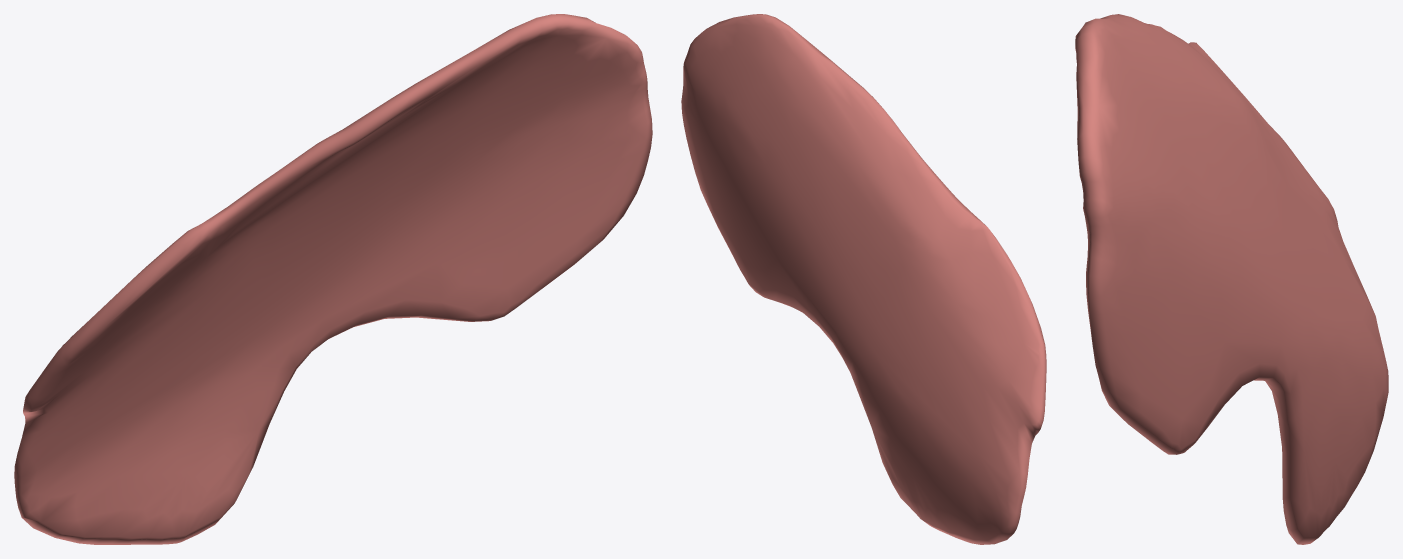
The picture shows the model from 3 angles, left to right: view 1: azimuth 30°, elevation 25°; view 2: azimuth 150°, elevation 25°; view 3: azimuth 270°, elevation 25°; orthographic projection. The views are drawn at different scales.
Parts seen in each view (by area): view 1: ZA_791feab23b260d7c; view 2: ZA_791feab23b260d7c; view 3: ZA_791feab23b260d7c.
Boxes of the visible parts, bbox=[...] form: ZA_791feab23b260d7c: bbox=[14, 14, 652, 544]; ZA_791feab23b260d7c: bbox=[681, 14, 1046, 544]; ZA_791feab23b260d7c: bbox=[1075, 14, 1388, 544].
Size of the model in its own units: 0.016 by 0.0146 by 0.00589.
